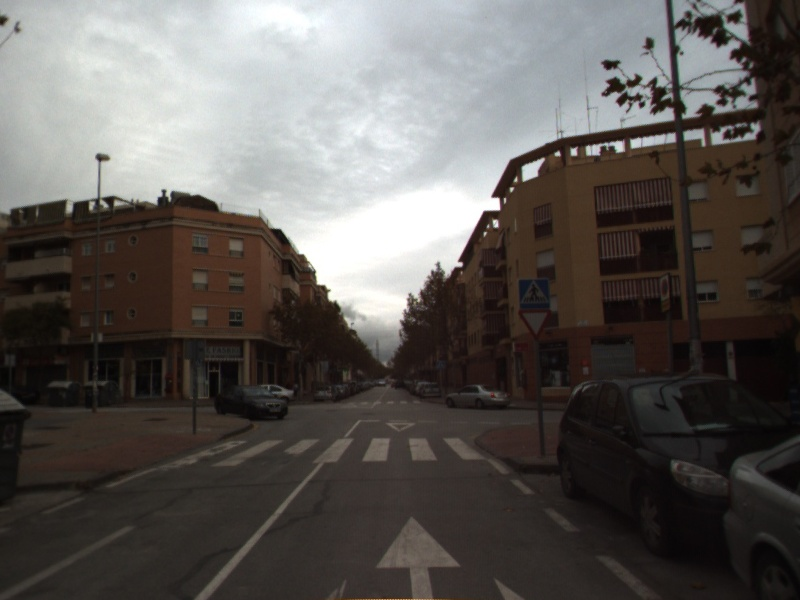STRAIGHT: (373, 512, 464, 600)
